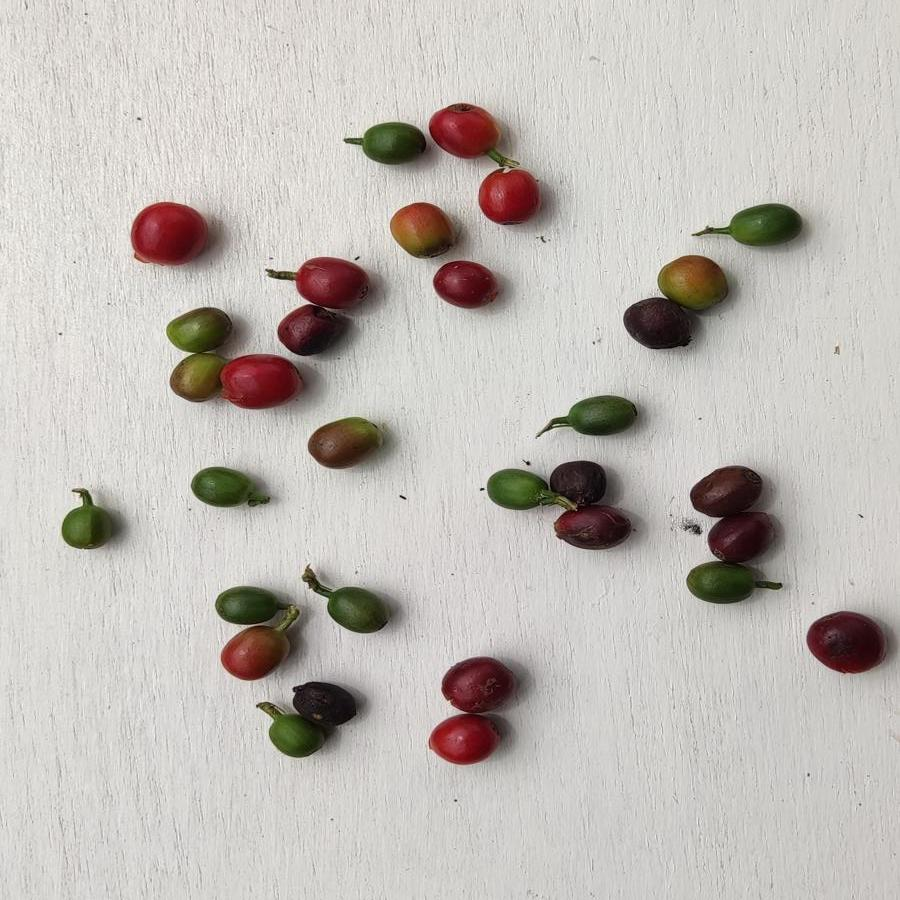Inmaduro: (322, 581, 395, 640), (559, 391, 637, 443), (725, 200, 802, 249), (211, 582, 287, 628), (684, 560, 757, 607), (183, 462, 255, 507), (55, 504, 118, 552), (357, 121, 424, 166), (483, 464, 546, 511), (269, 715, 321, 762)
Maduro: (127, 201, 211, 273), (218, 348, 302, 412), (428, 99, 502, 163), (288, 256, 373, 310), (425, 711, 502, 769), (474, 169, 543, 229)
Pinton: (215, 625, 292, 684), (302, 415, 380, 470), (660, 256, 735, 309), (393, 201, 454, 261), (167, 304, 231, 352), (169, 354, 224, 405)
Sobremaduro: (806, 609, 888, 674), (440, 655, 510, 713), (554, 502, 629, 556), (689, 462, 767, 511), (621, 303, 696, 351), (708, 510, 776, 562), (430, 263, 500, 312), (277, 310, 340, 360), (287, 680, 360, 722), (547, 459, 613, 505)
